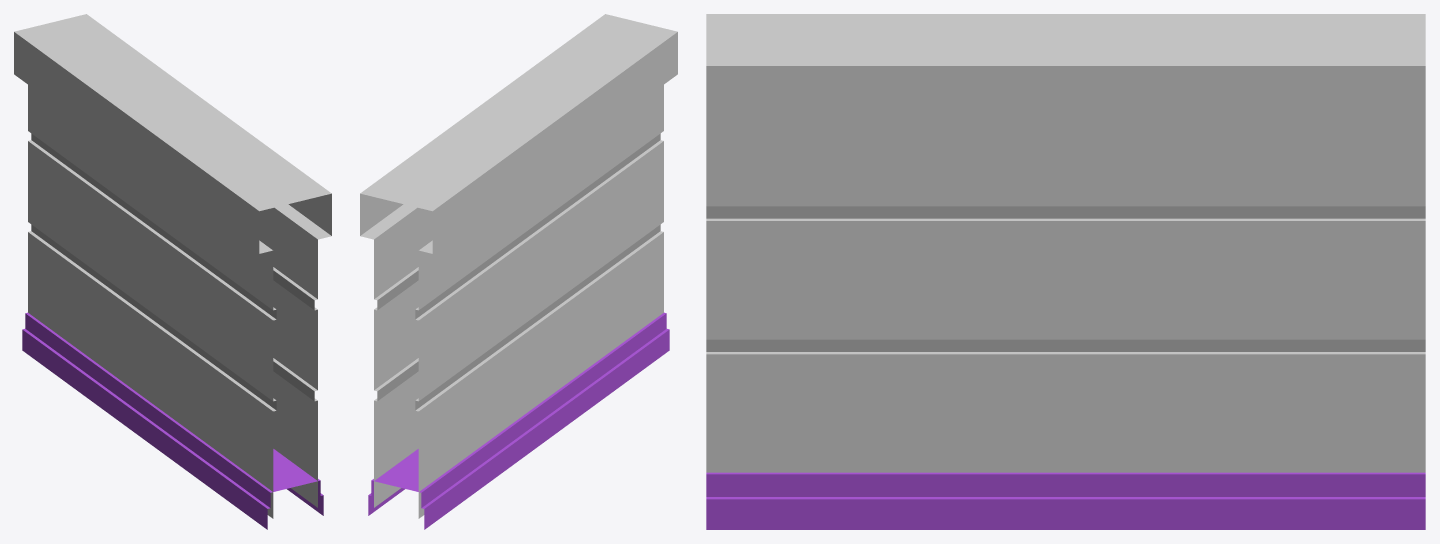
File: Wall_without_details.fbx
3 renders of one model, left to right at view 1: azimuth 30°, elevation 25°; view 2: azimuth 150°, elevation 25°; view 3: azimuth 270°, elevation 25°, orthographic. The views are drawn at different scales.
Visible parts, largest first — view 1: Base, UnderBase; view 2: Base, UnderBase; view 3: Base, UnderBase.
Boxes of the visible parts, x1,y1,x2,y2 form: Base: (14,14,331,518); UnderBase: (22,312,323,529); Base: (360,14,677,518); UnderBase: (368,312,669,529); Base: (706,14,1425,472); UnderBase: (706,472,1425,529).
Bounding box in the file's own units: 1.04 × 4.41 × 6.11.
